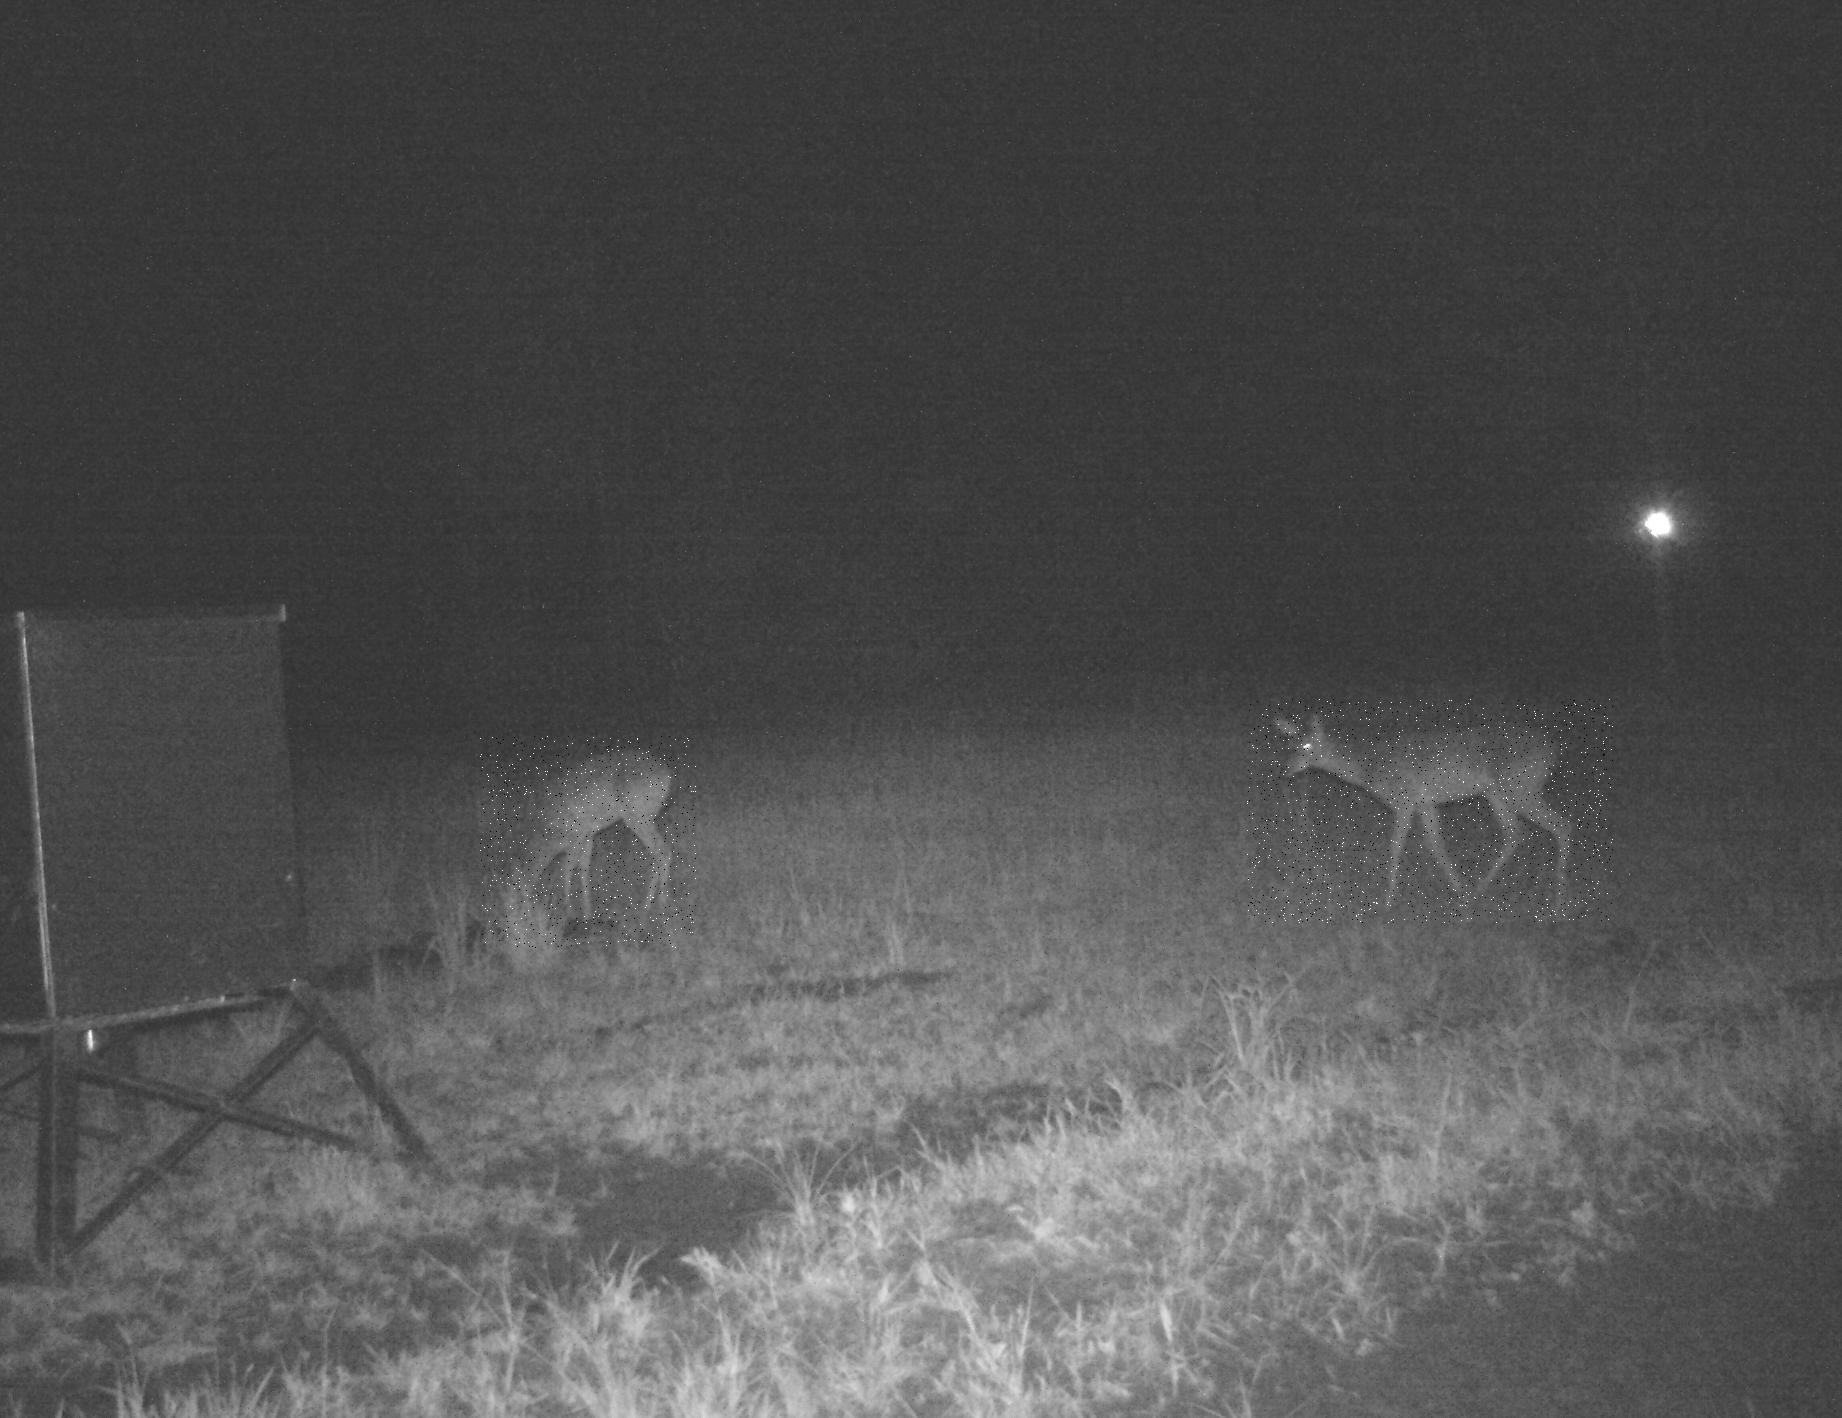Deer: (1246, 699, 1613, 923), (479, 736, 697, 947)
